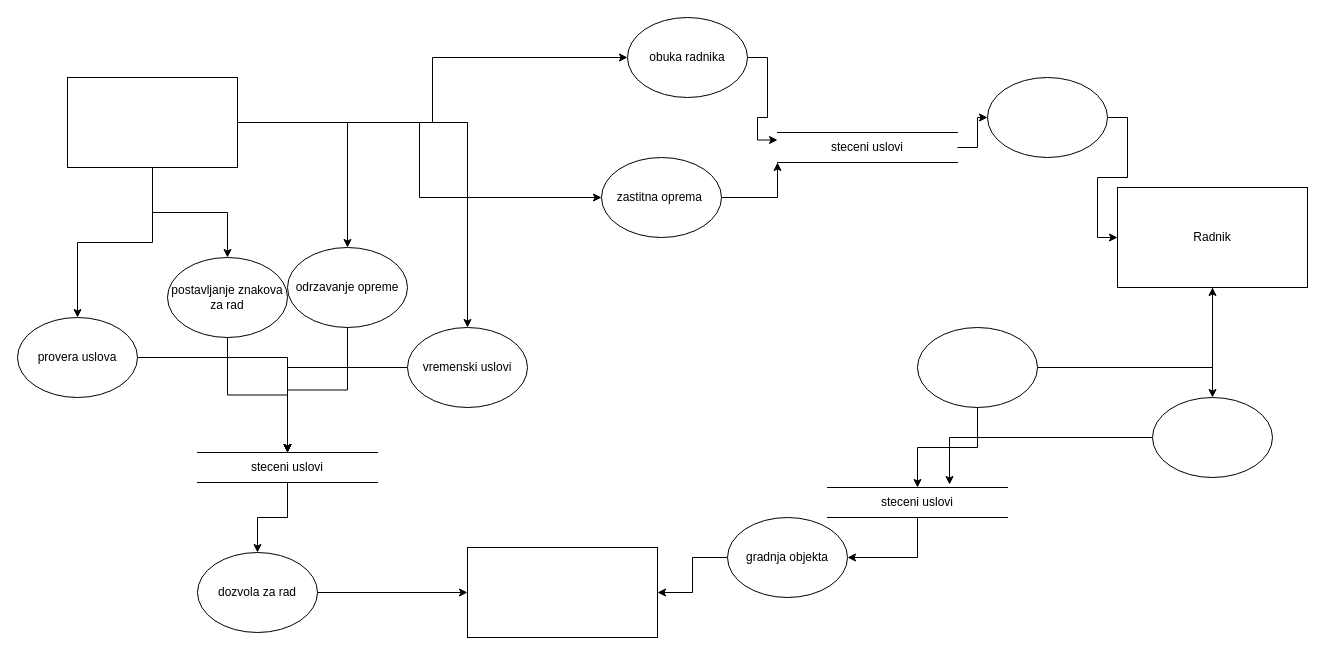
Image size: 1325x655. Some labels were removed from this diagram. Here are the shapes that lost their labels. From the top down, the centre of each, then its label:
(152,122): Vodja radova
(1047,117): prijava radnika
(977,367): lekarska uverenja
(1212,437): oprema za rad
(562,592): Gradiliste
